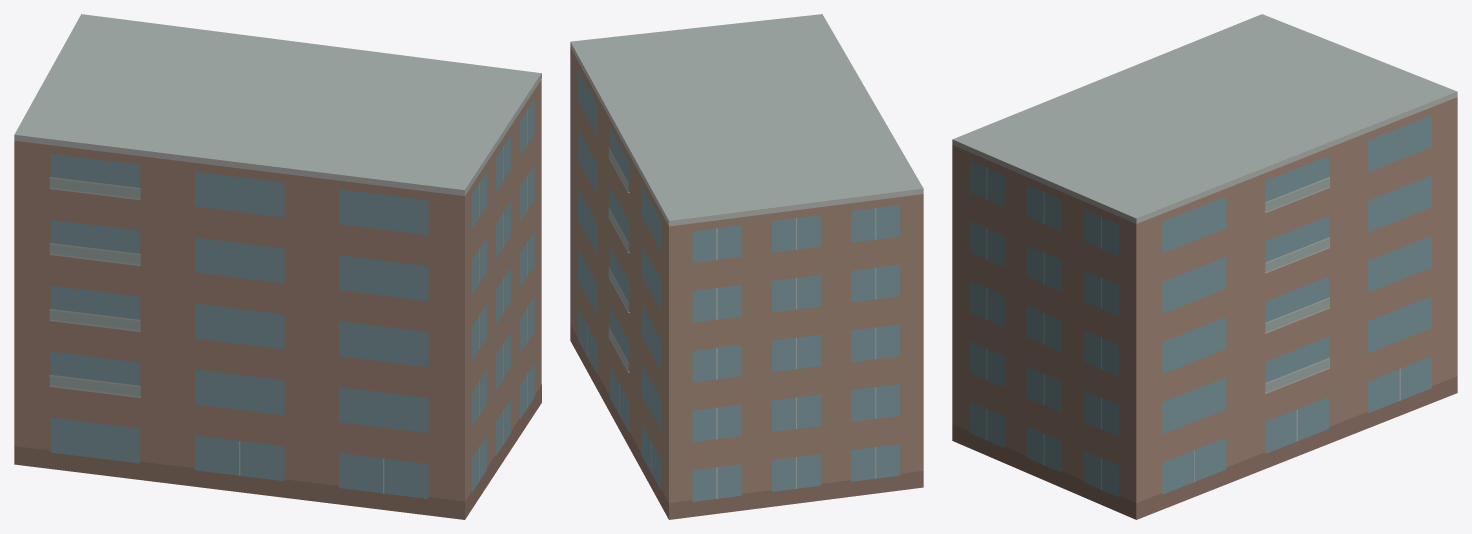
Rendered from survey-upis-32646318.glb.
3 renders of one model, left to right at view 1: azimuth 30°, elevation 25°; view 2: azimuth 150°, elevation 25°; view 3: azimuth 270°, elevation 25°, orthographic. The views are drawn at different scales.
Visible parts, largest first — view 1: survey-upis-32646318.tmp; view 2: survey-upis-32646318.tmp; view 3: survey-upis-32646318.tmp.
Part boxes in pixels (box(x1,y1,x2,y2)): survey-upis-32646318.tmp: box(14, 14, 541, 519); survey-upis-32646318.tmp: box(570, 14, 923, 519); survey-upis-32646318.tmp: box(952, 14, 1457, 519).
Size of the model in its own units: 19.66 by 13.5 by 20.52.
